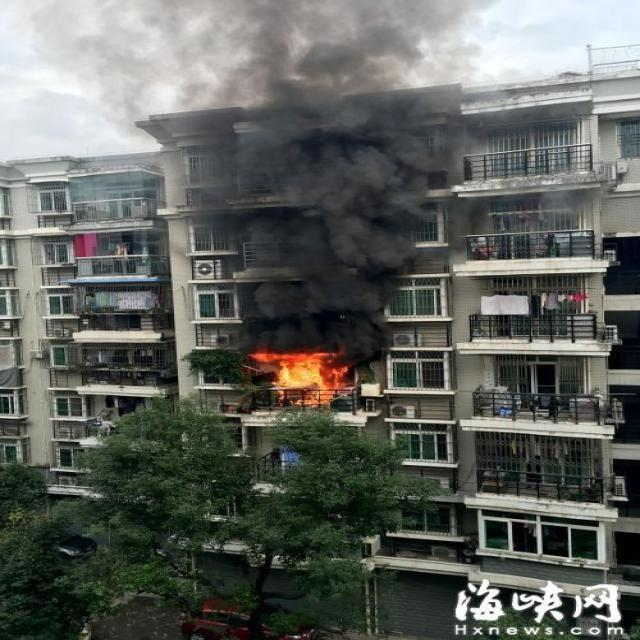Fire: (250, 350, 350, 408)
Smoke: (31, 1, 539, 372)
